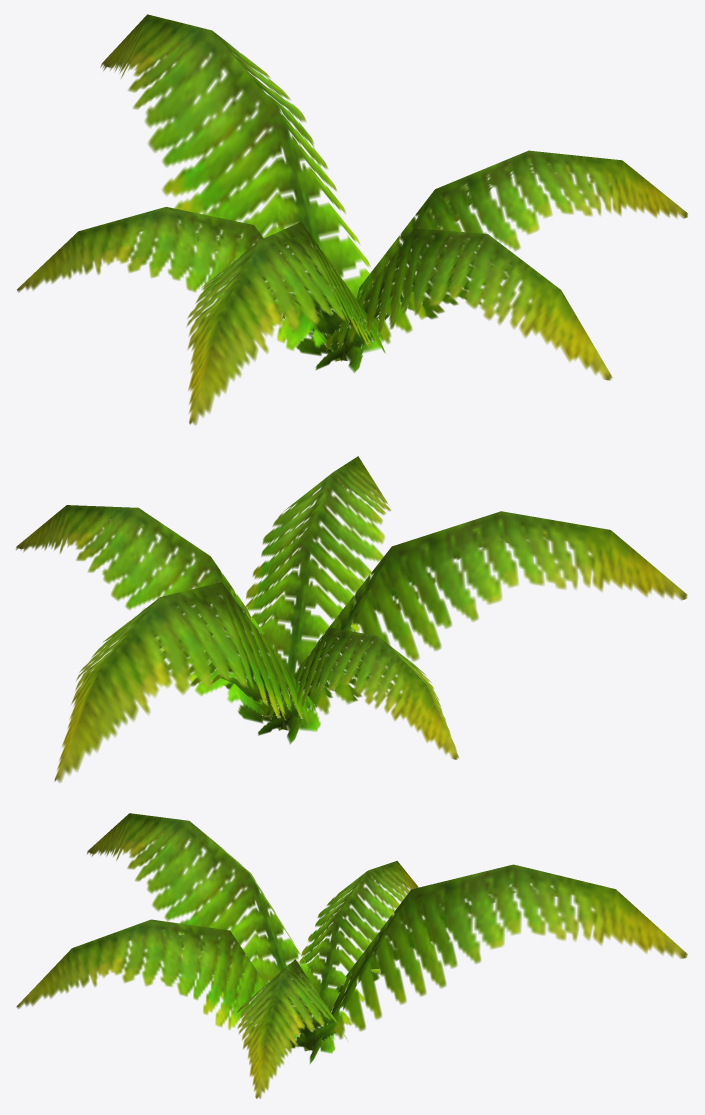
Rendered from grass_01m.glb.
The picture shows the model from 3 angles, top to bottom: view 1: azimuth 30°, elevation 25°; view 2: azimuth 150°, elevation 25°; view 3: azimuth 270°, elevation 25°; orthographic projection. The views are drawn at different scales.
Visible parts, largest first — view 1: grass_01m; view 2: grass_01m; view 3: grass_01m.
Part boxes in pixels (x1,y1,x2,y2): grass_01m: [17, 14, 687, 425]; grass_01m: [16, 456, 687, 782]; grass_01m: [16, 813, 687, 1098].
Size of the model in its own units: 2.42 by 0.8931 by 2.95.
Materials: 1 (1 with a texture image).
